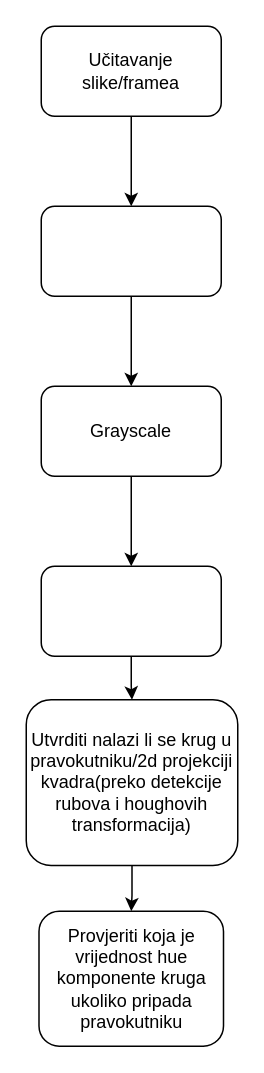
Some shapes in this 264 by 1073 pixel diagram are drawn without their labels. The shapes that lost their labels are listed below. From the top down, each one's centre as x and y in pixels, then its label:
point (130, 250): Ukoliko frame nije u željenom formatu konvertirati u željeni format(HSV)
point (130, 610): Detekcija svijetlih krugova na slici pomoću white top hat transformacije
